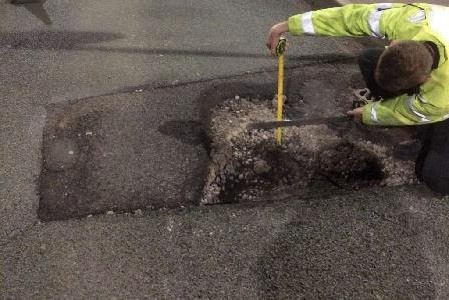pothole: (190, 80, 299, 210)
